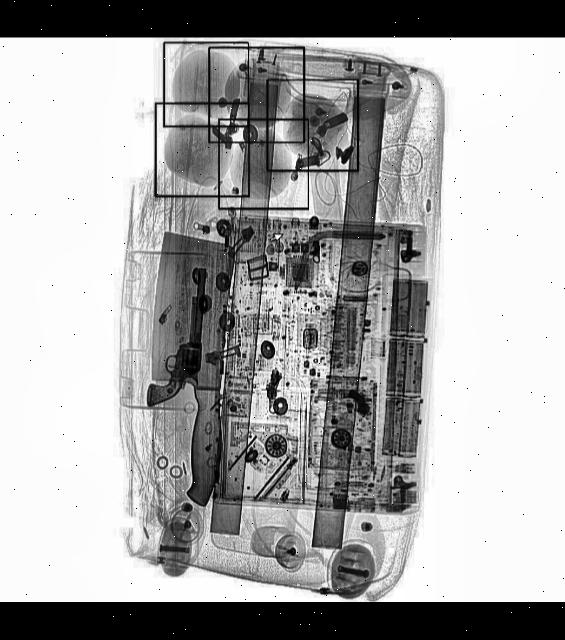Gun: (148, 264, 210, 409)
Knife: (137, 232, 238, 506)
